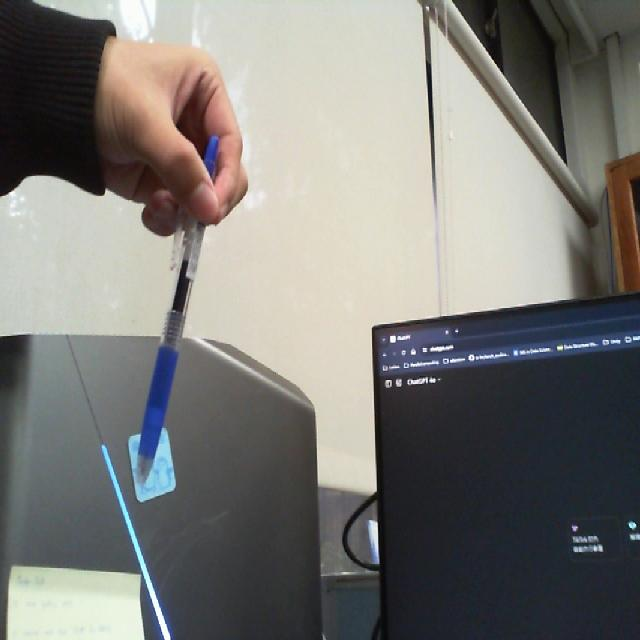Pen: (131, 128, 221, 500)
